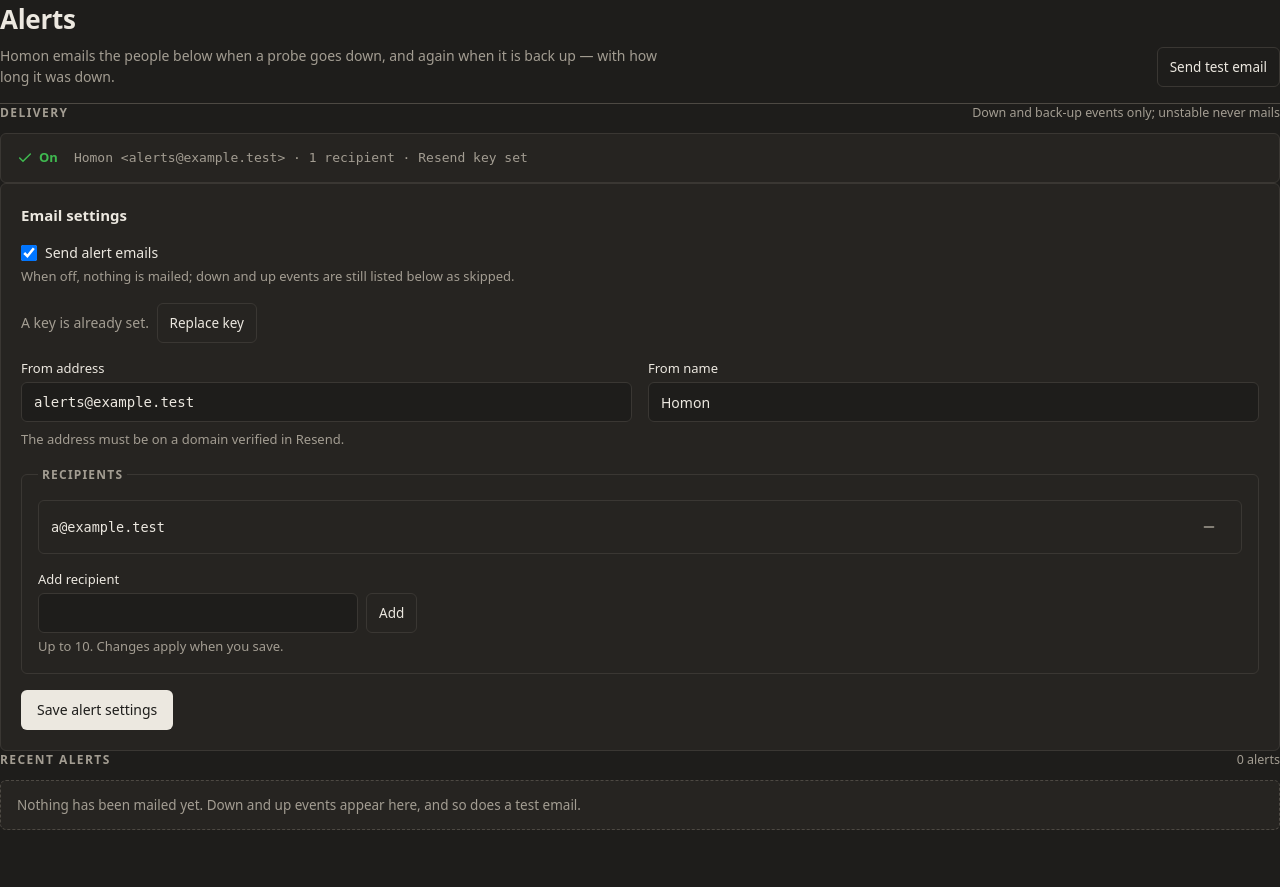
Test case: AdminAlertsPage › a stored key is never shown: Replace key reveals an empty input, Keep puts it back
The image size is (1280, 887).
Expected: the text "A key is already set. Replace key" is shown, left=21, top=303, right=257, bottom=343
Expected: the field labelled "Resend API key" is not shown
Click the button "Replace key": (207, 323) left=157, top=303, right=257, bottom=343
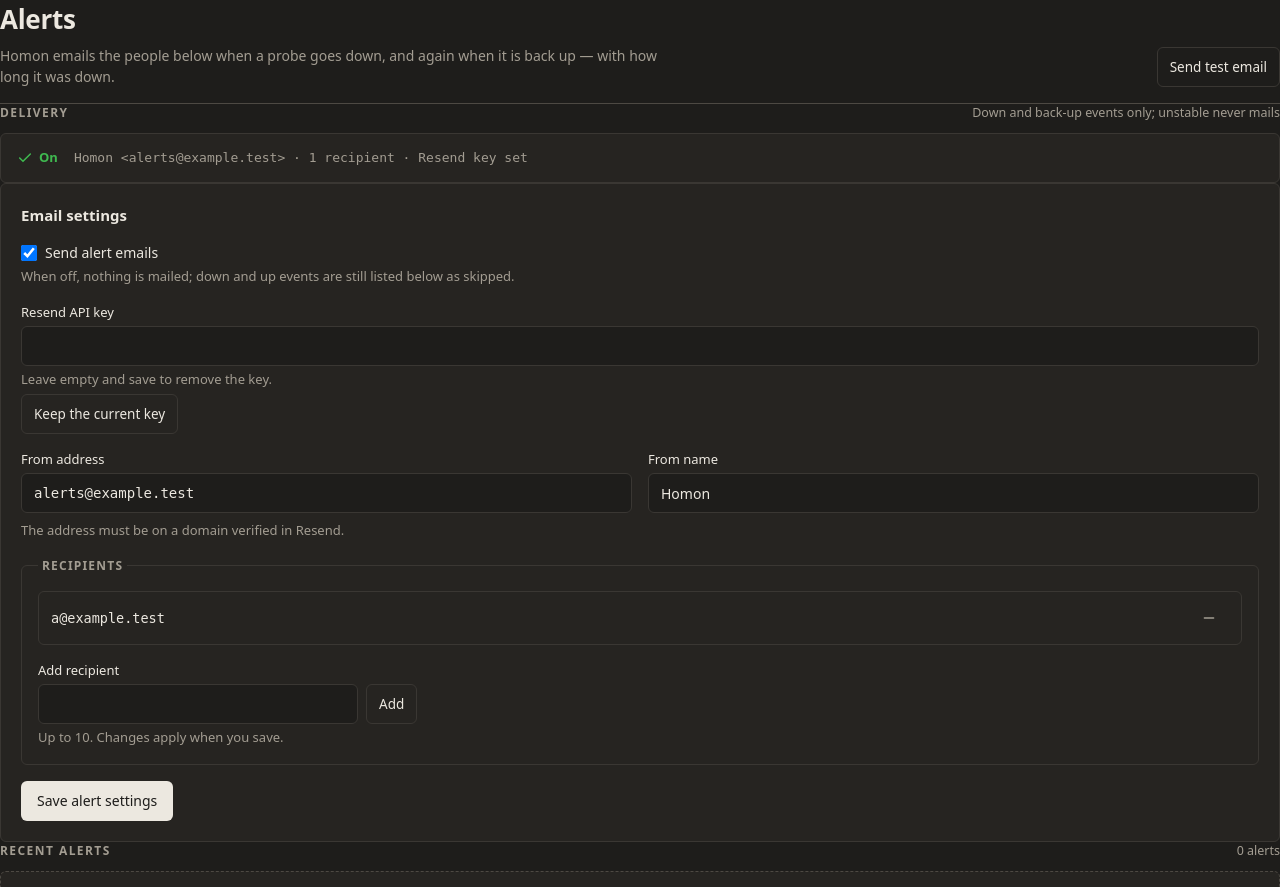
Expected: the password field labelled "Resend API key" is empty, left=21, top=326, right=1259, bottom=366
Click the button "Keep the current key": (100, 414) left=21, top=394, right=178, bottom=434
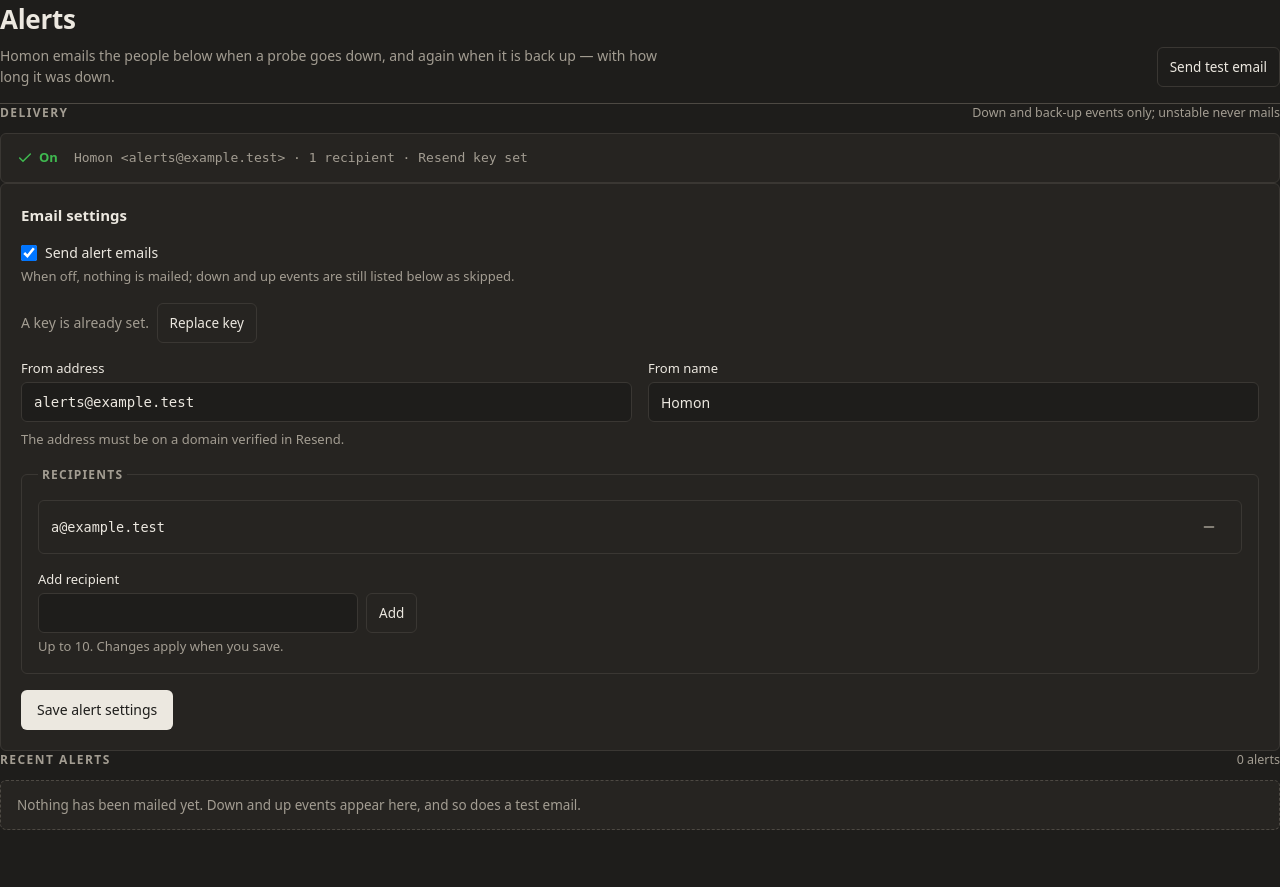
Expected: the label labelled "Resend API key" is gone
